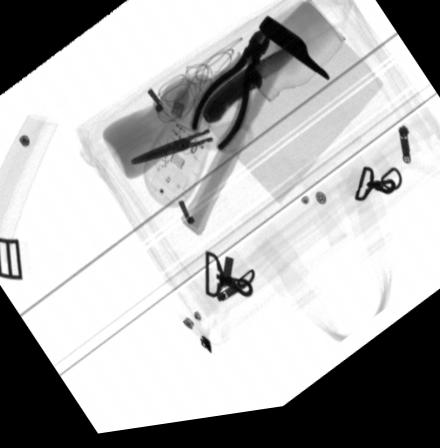Hammer: (181, 22, 329, 243)
Knife: (203, 53, 302, 128)
Pliers: (187, 39, 271, 158)
Scissors: (128, 89, 256, 170)
